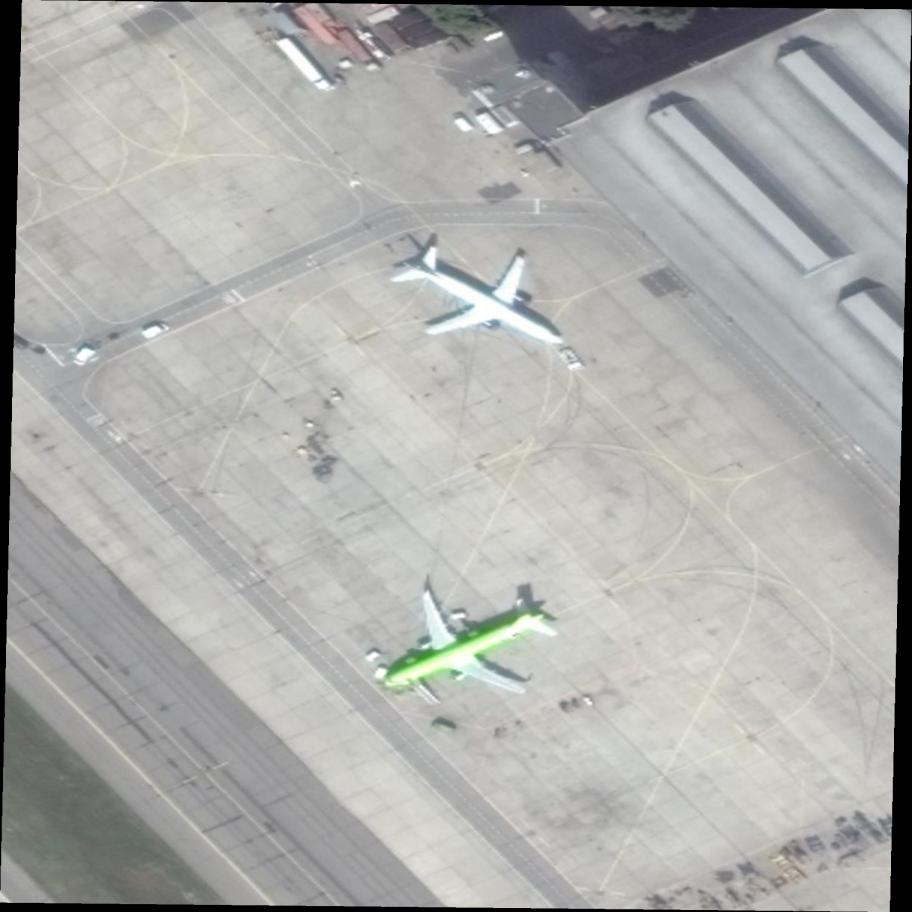plane: (364, 198, 608, 401), (341, 550, 586, 744)
ship: (275, 33, 337, 96), (335, 24, 385, 77)
small-vehicle: (449, 107, 478, 138), (70, 341, 97, 371), (140, 319, 172, 344)
